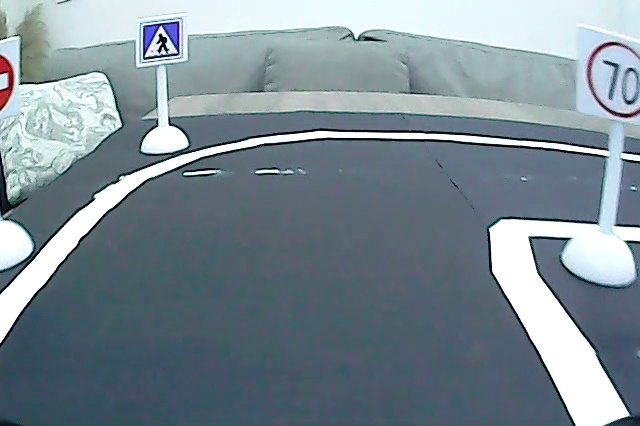pedestrian crossing: (139, 18, 184, 58)
speed limit 70: (581, 36, 640, 122)
